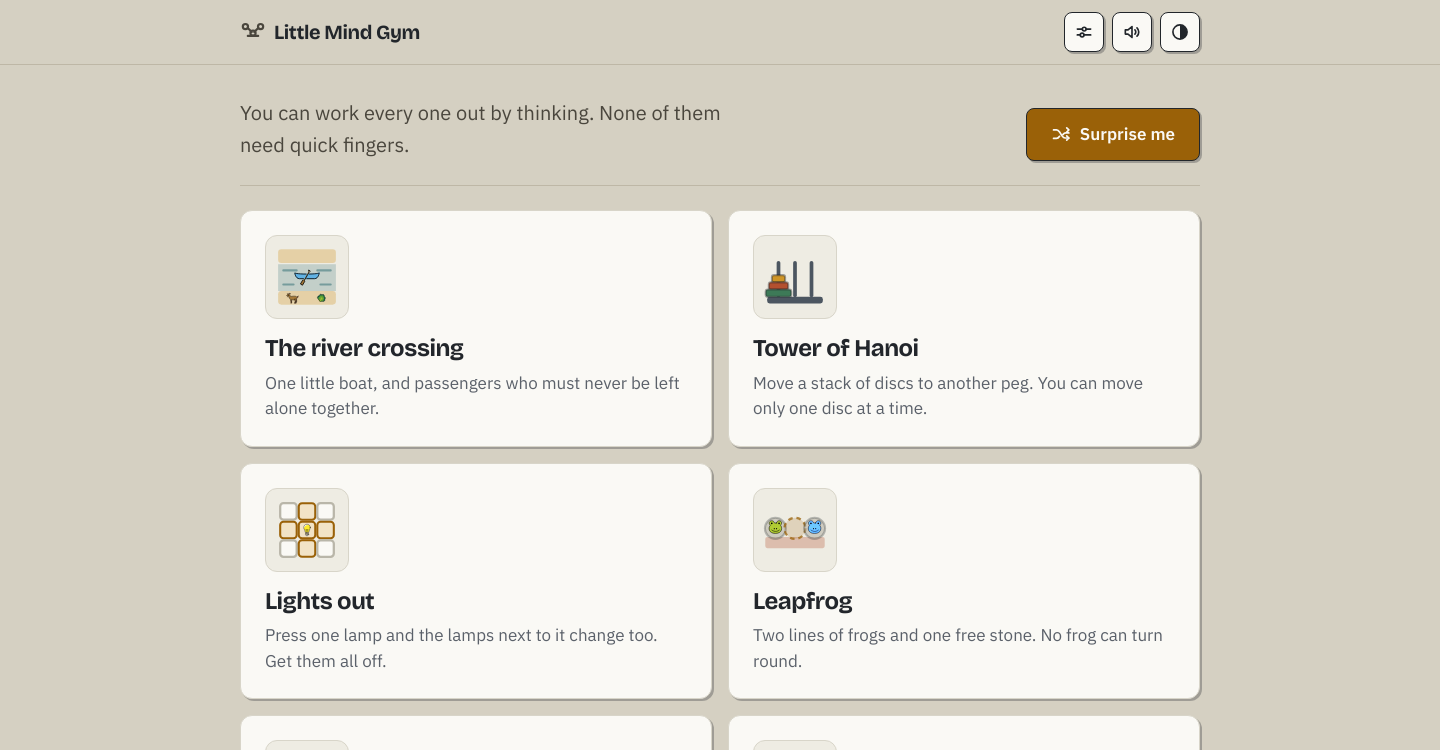
the settings page › opens from the navbar, with every setting where it starts out
Click the link named "Settings" at (1084,32), box [1064,12,1104,52]
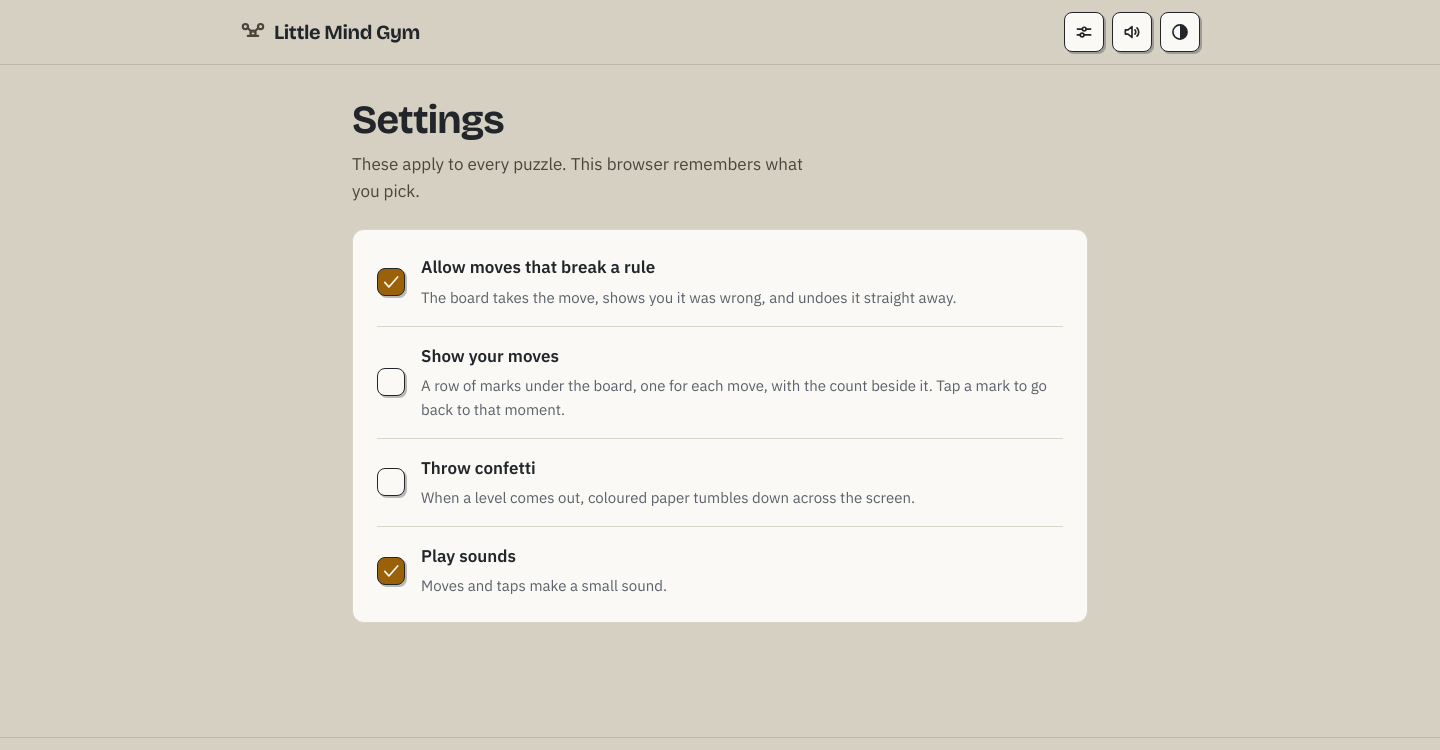
Expected: the heading "Settings" is shown, [352,96,504,144]
Expected: the checkbox labelled "Allow moves that break a rule" is checked, [377,256,957,307]
Expected: the checkbox labelled "Show your moves" is not checked, [377,326,1063,438]
